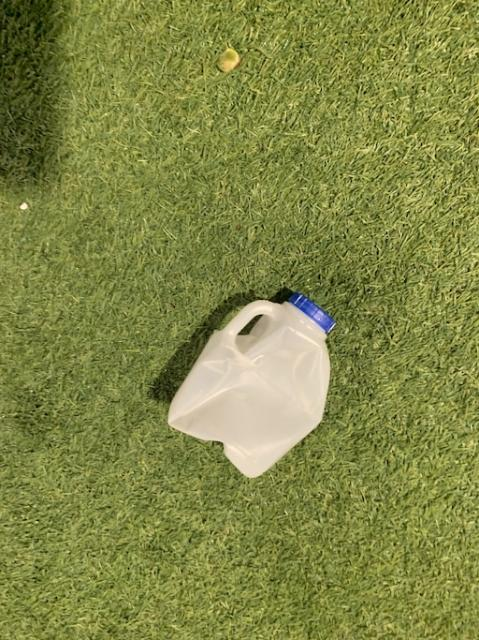plastic: (168, 291, 334, 475)
